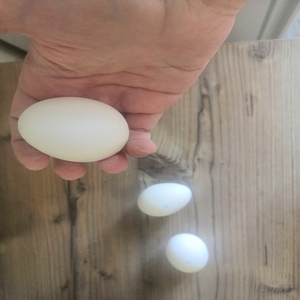white egg: (17, 95, 130, 164), (137, 182, 192, 217), (165, 232, 209, 273)
